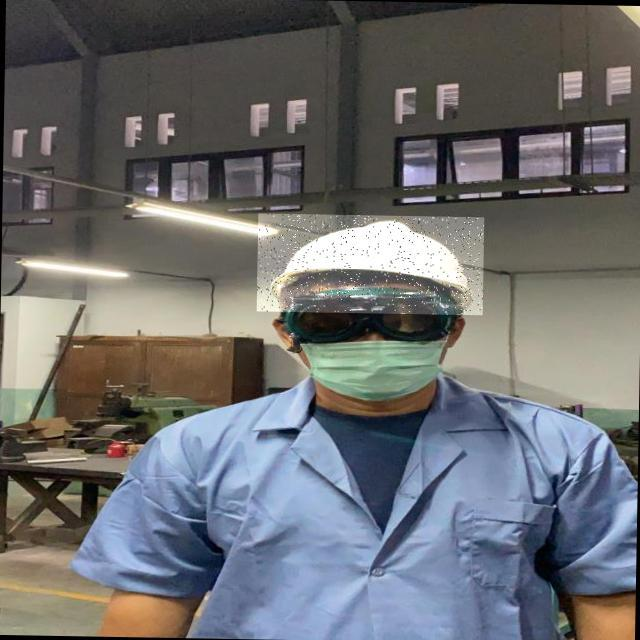Helmet: (256, 214, 484, 316)
Person: (49, 172, 640, 640)
no-vest: (72, 382, 636, 640)
